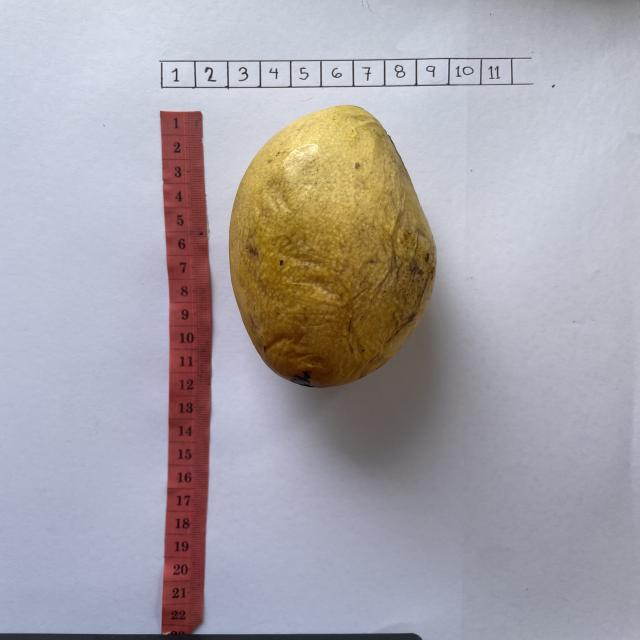Ripe: (227, 105, 437, 391)
